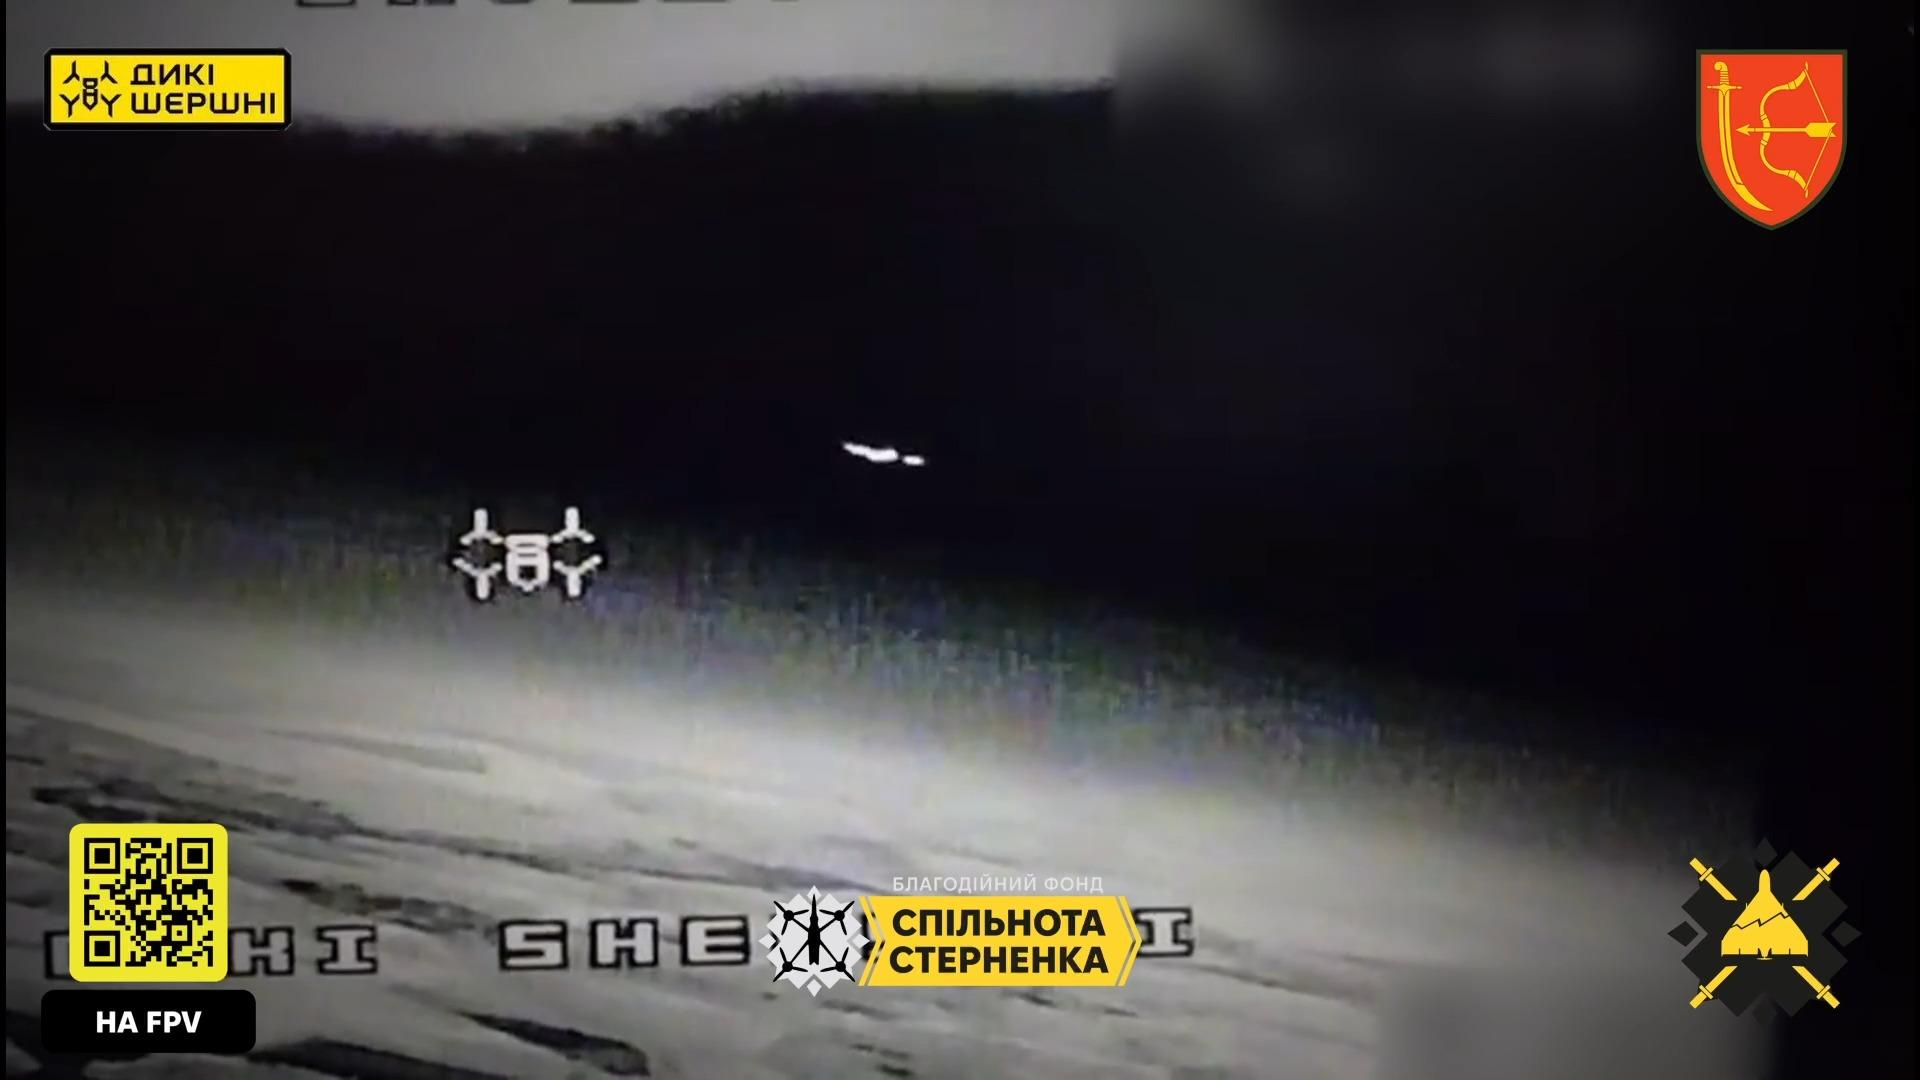Gerbera: (839, 440, 926, 468)
